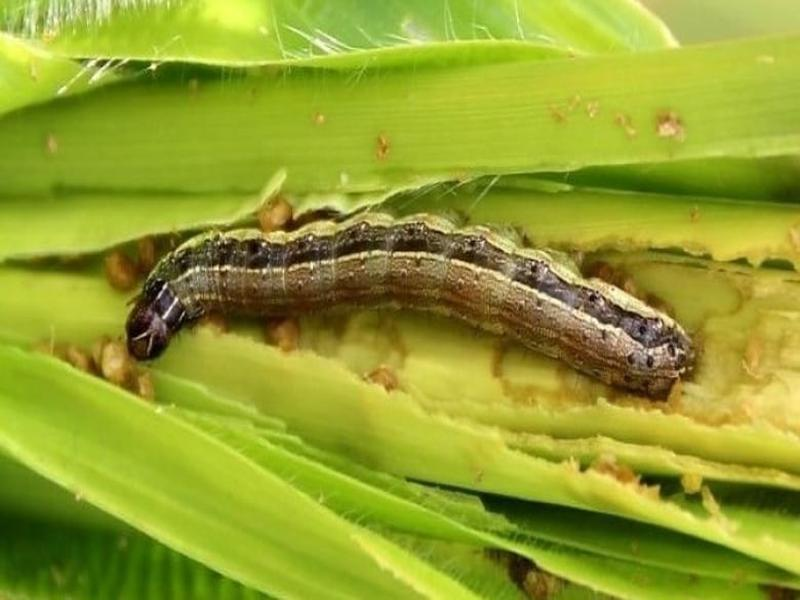Armyworms: (93, 204, 706, 415)
